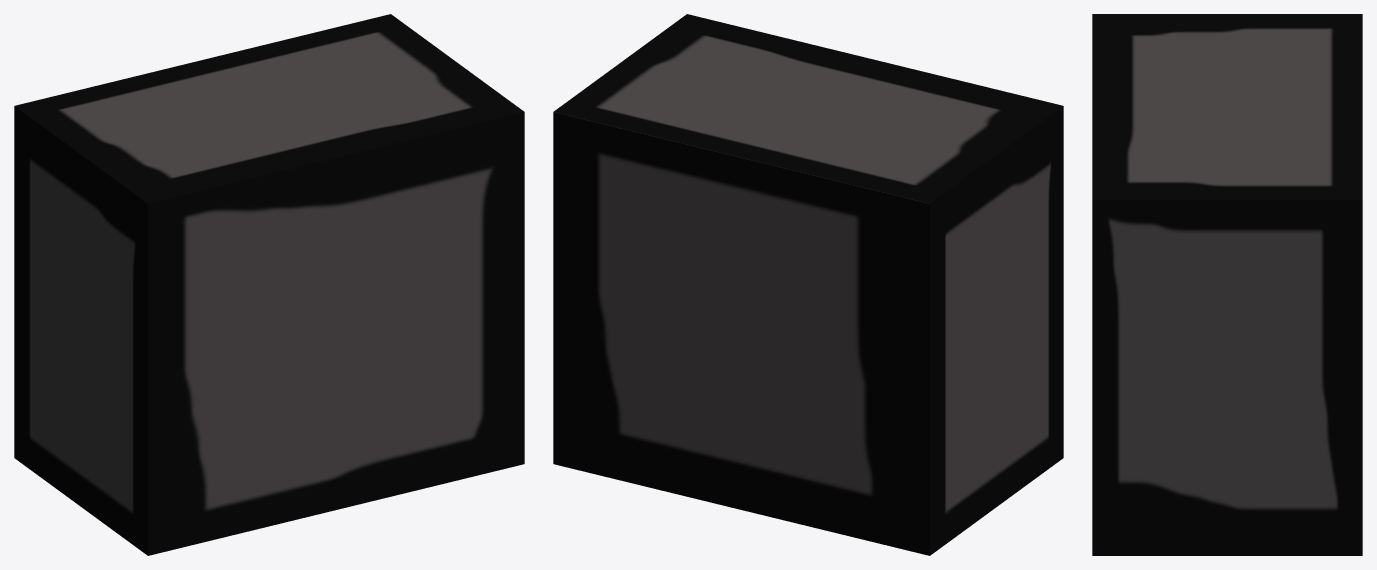
The model's file is test_room02.obj.
The picture shows the model from 3 angles, left to right: view 1: azimuth 30°, elevation 25°; view 2: azimuth 150°, elevation 25°; view 3: azimuth 270°, elevation 25°; orthographic projection.
Visible parts, largest first — view 1: room; view 2: room; view 3: room.
Boxes of the visible parts, x1,y1,x2,y2 form: room: (14,14,524,555); room: (553,14,1063,555); room: (1092,14,1362,555).
Size of the model in its own units: 17.23 by 15.39 by 10.6.
Materials: 2 (2 with a texture image).
